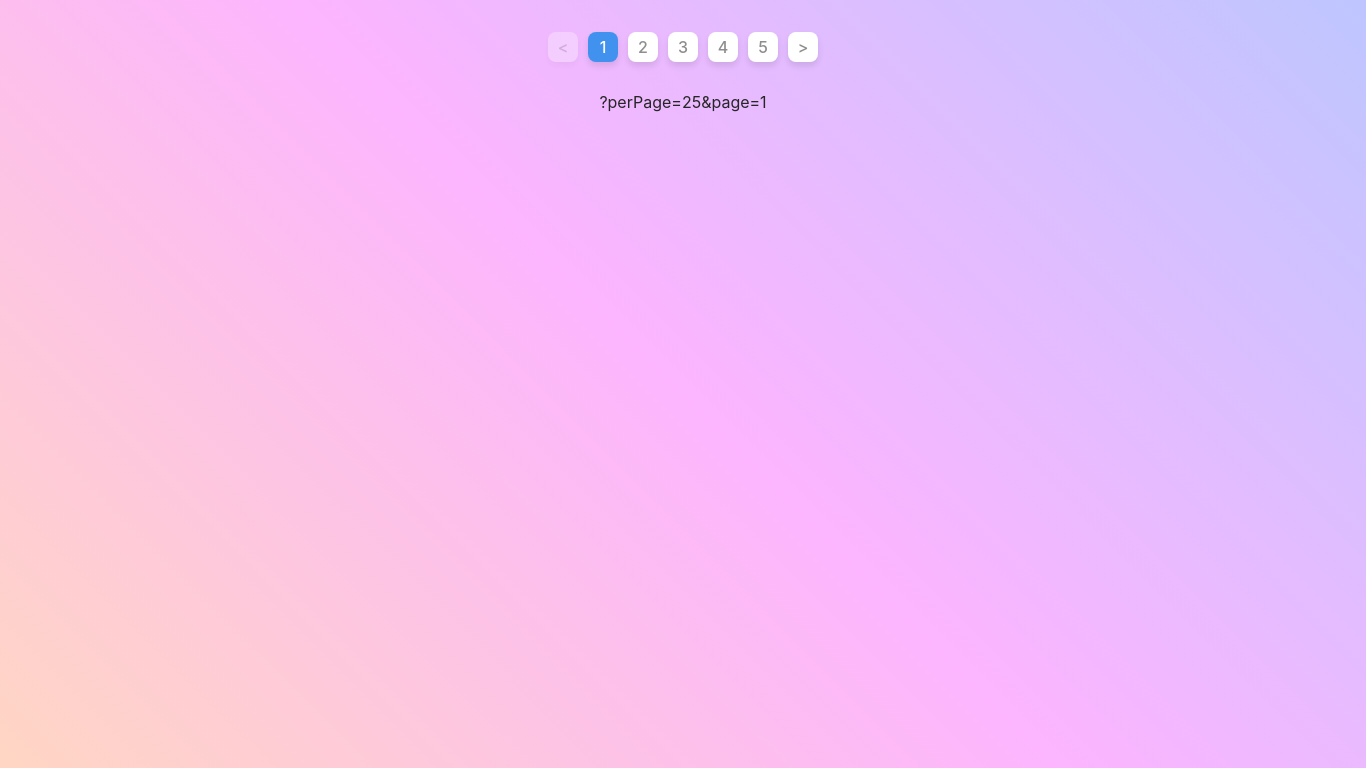
Test: PaginationButtons › should update URL query parameter
The image size is (1366, 768).
Check: the text with test id "location-display" reads "?perPage=25&page=1", box [599,92,767,112]
Click the button "3" at (683, 47), box [668,32,698,62]
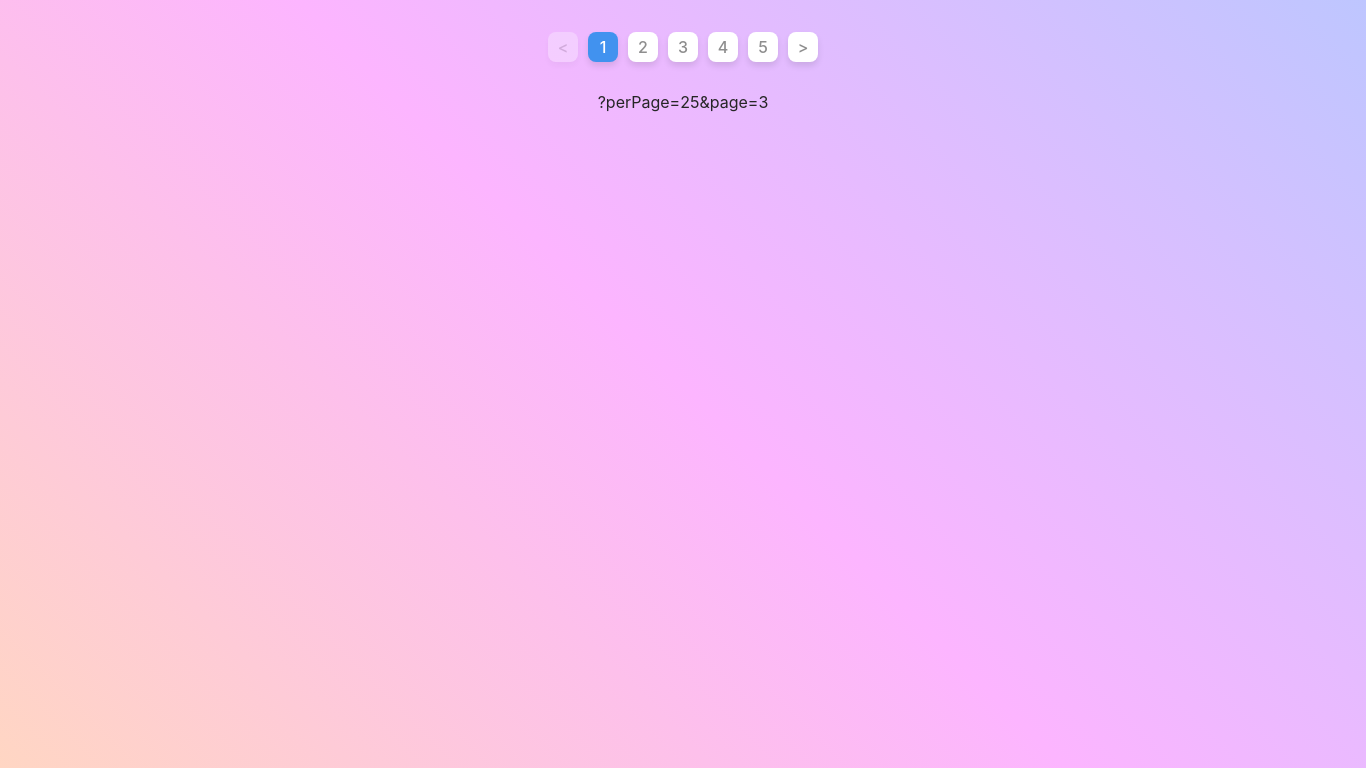
Check: the text with test id "location-display" shows "perPage=25&page=3", box [598,92,768,112]
